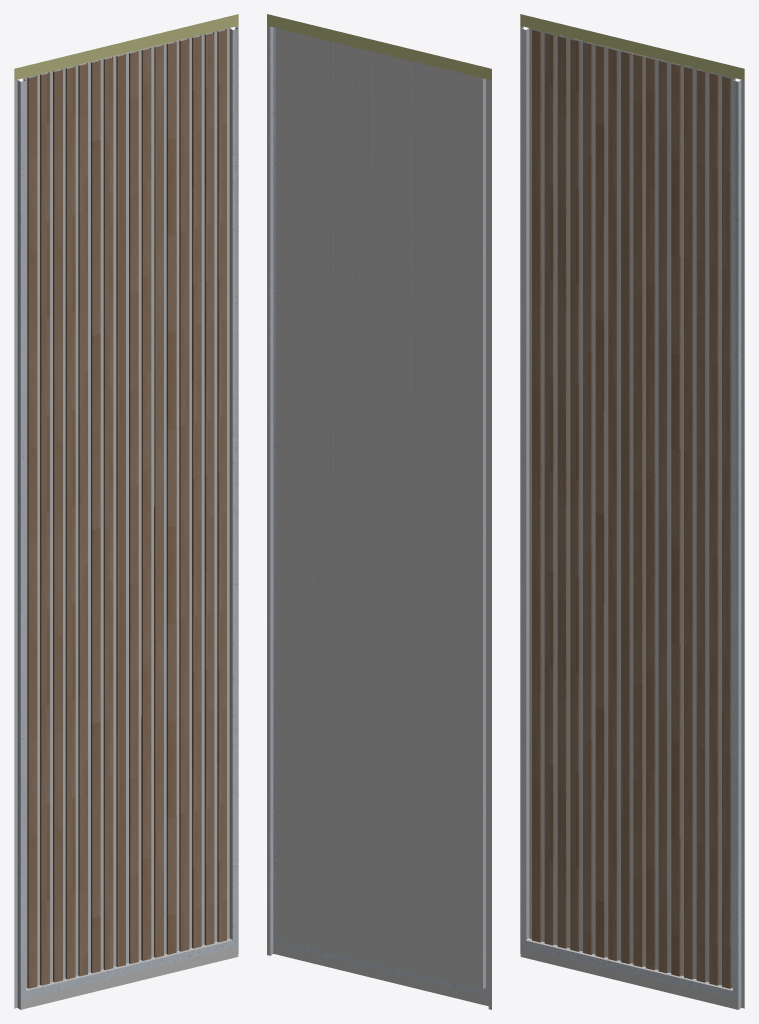
3 renders of one model, left to right at view 1: azimuth 30°, elevation 25°; view 2: azimuth 150°, elevation 25°; view 3: azimuth 330°, elevation 25°, orthographic.
Visible parts, largest first — view 1: M_W_002_f_2x8; view 2: M_W_002_f_2x8; view 3: M_W_002_f_2x8.
Boxes of the visible parts, left/top/right/bottom form: M_W_002_f_2x8: left=14, top=14, right=238, bottom=1009; M_W_002_f_2x8: left=267, top=14, right=491, bottom=1009; M_W_002_f_2x8: left=520, top=14, right=744, bottom=1009.
Size of the model in its own units: 2 by 8 by 0.0456.
